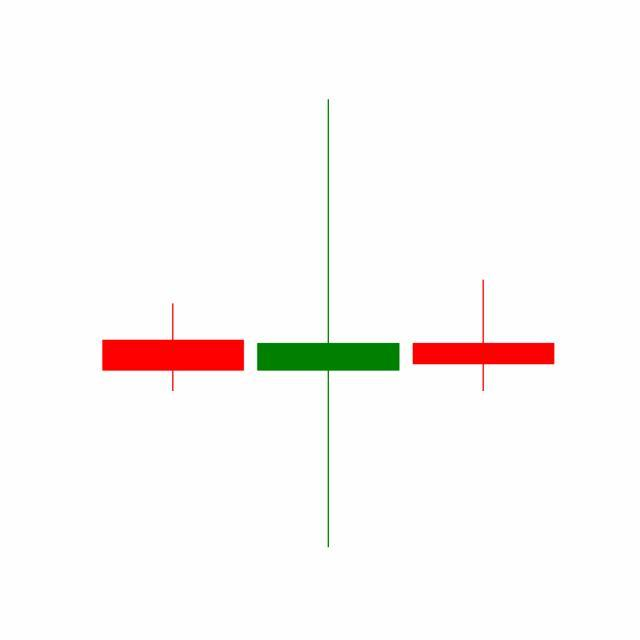Spinning Top: (406, 278, 562, 393)
